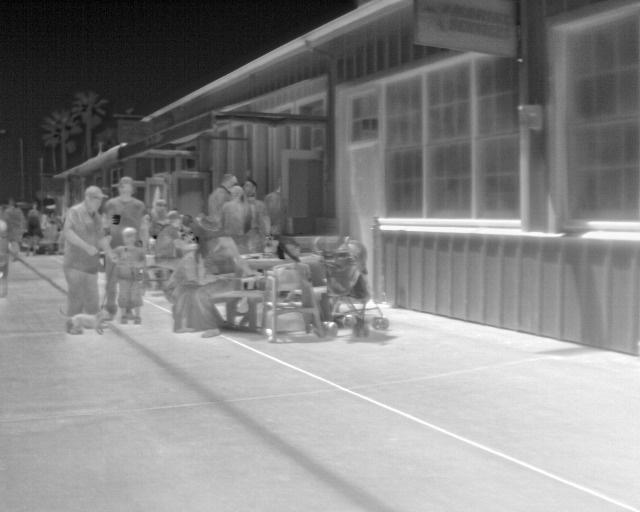empty: (173, 216, 256, 338), (62, 185, 111, 316), (104, 228, 149, 325), (155, 211, 200, 273), (104, 175, 146, 226), (220, 190, 249, 253), (243, 179, 271, 238), (205, 173, 238, 217), (1, 196, 24, 255), (24, 201, 44, 256), (262, 181, 282, 233)
